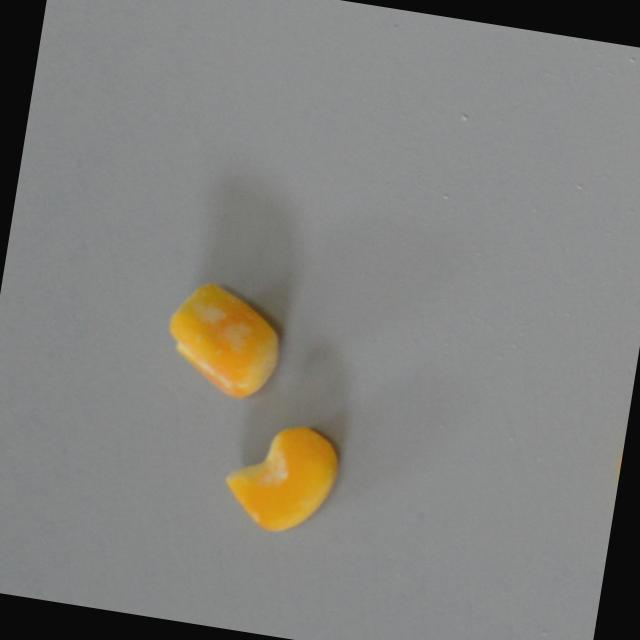no_canjicado: (217, 414, 346, 540)
pelicula: (158, 276, 292, 400)
